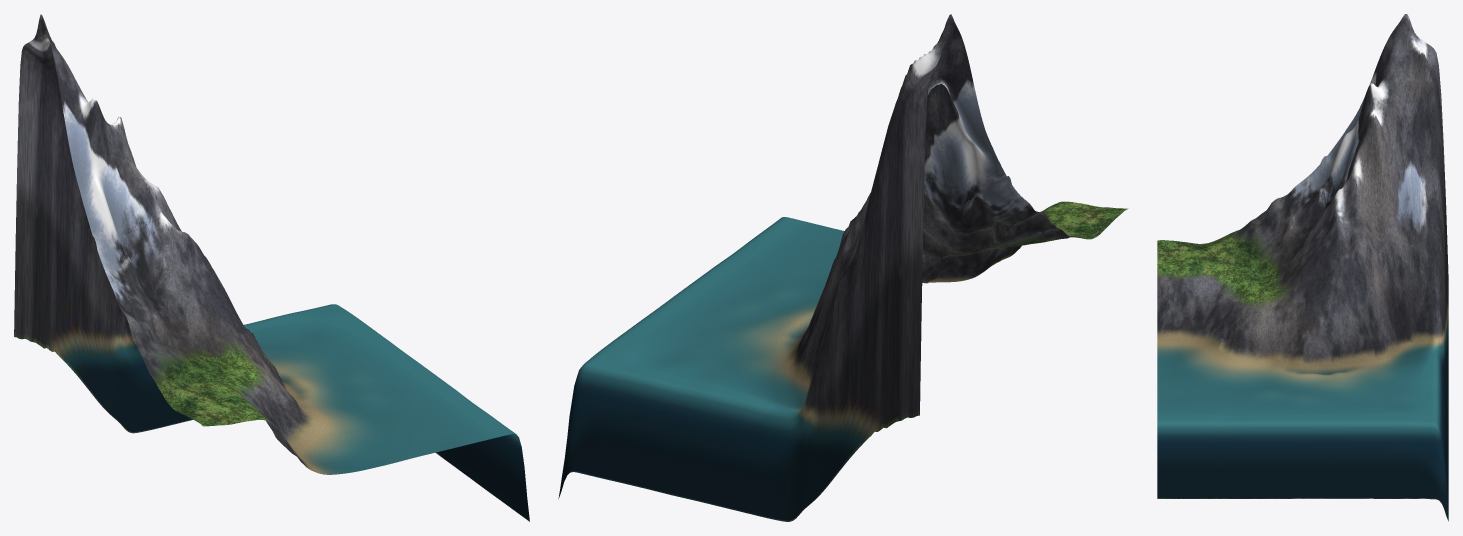
3 views of the same model, side by side, from view 1: azimuth 30°, elevation 25°; view 2: azimuth 150°, elevation 25°; view 3: azimuth 270°, elevation 25° (orthographic). The views are drawn at different scales.
Parts seen in each view (by area): view 1: t192_192; view 2: t192_192; view 3: t192_192.
Boxes of the visible parts, box(x1,y1,x2,y2) form: t192_192: box(14, 14, 529, 521); t192_192: box(558, 14, 1128, 521); t192_192: box(1157, 14, 1448, 521).
Size of the model in its own units: 64 by 93.32 by 64.
1 material, 1 textured.
